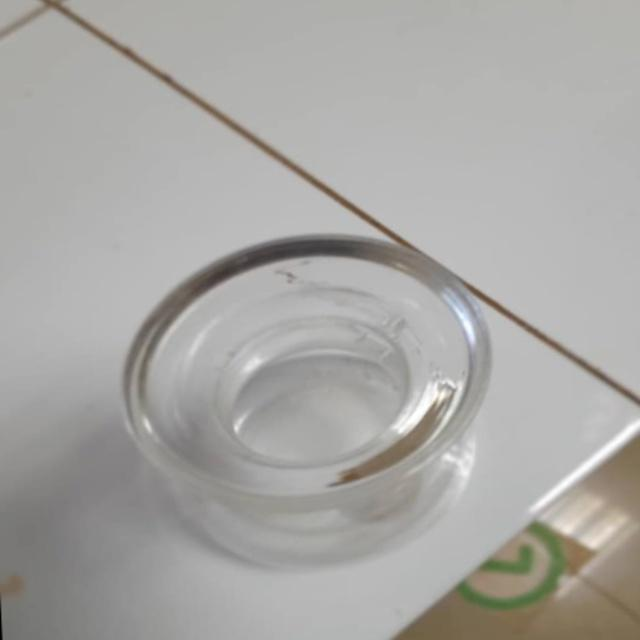Filtration Flask: (62, 192, 490, 560)
